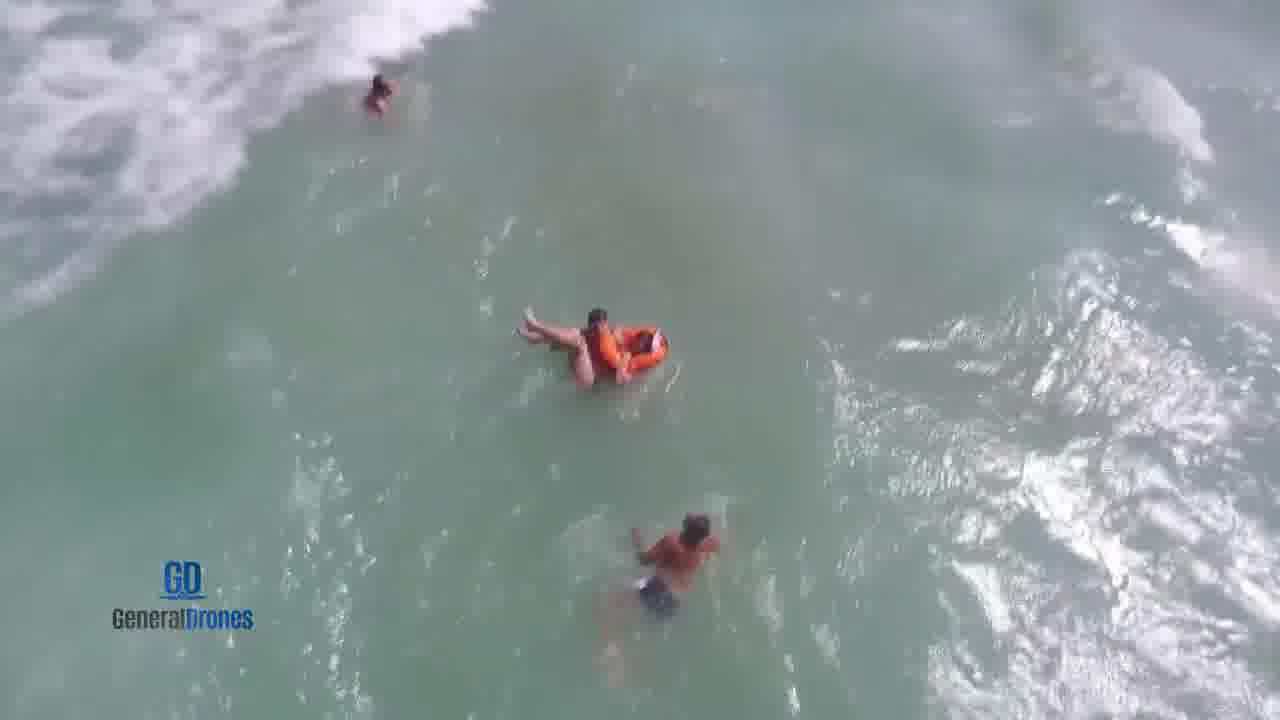swimmer: (601, 515, 734, 676), (518, 315, 662, 389), (356, 71, 413, 125), (573, 301, 633, 334)
